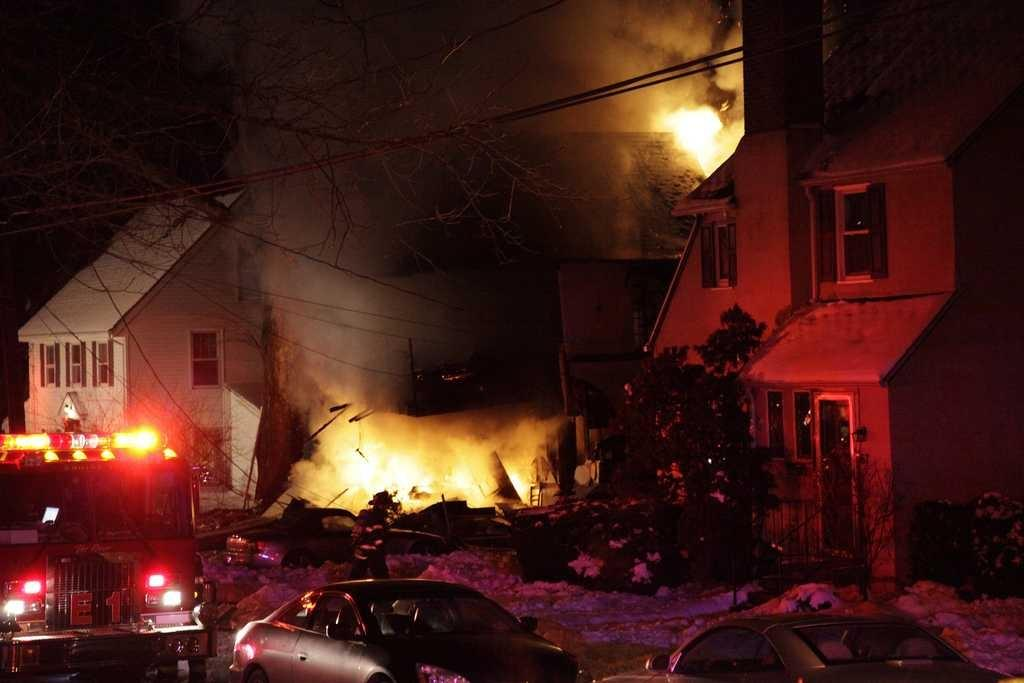fire: (306, 416, 558, 499), (644, 81, 740, 158)
smoke: (268, 51, 413, 383)
